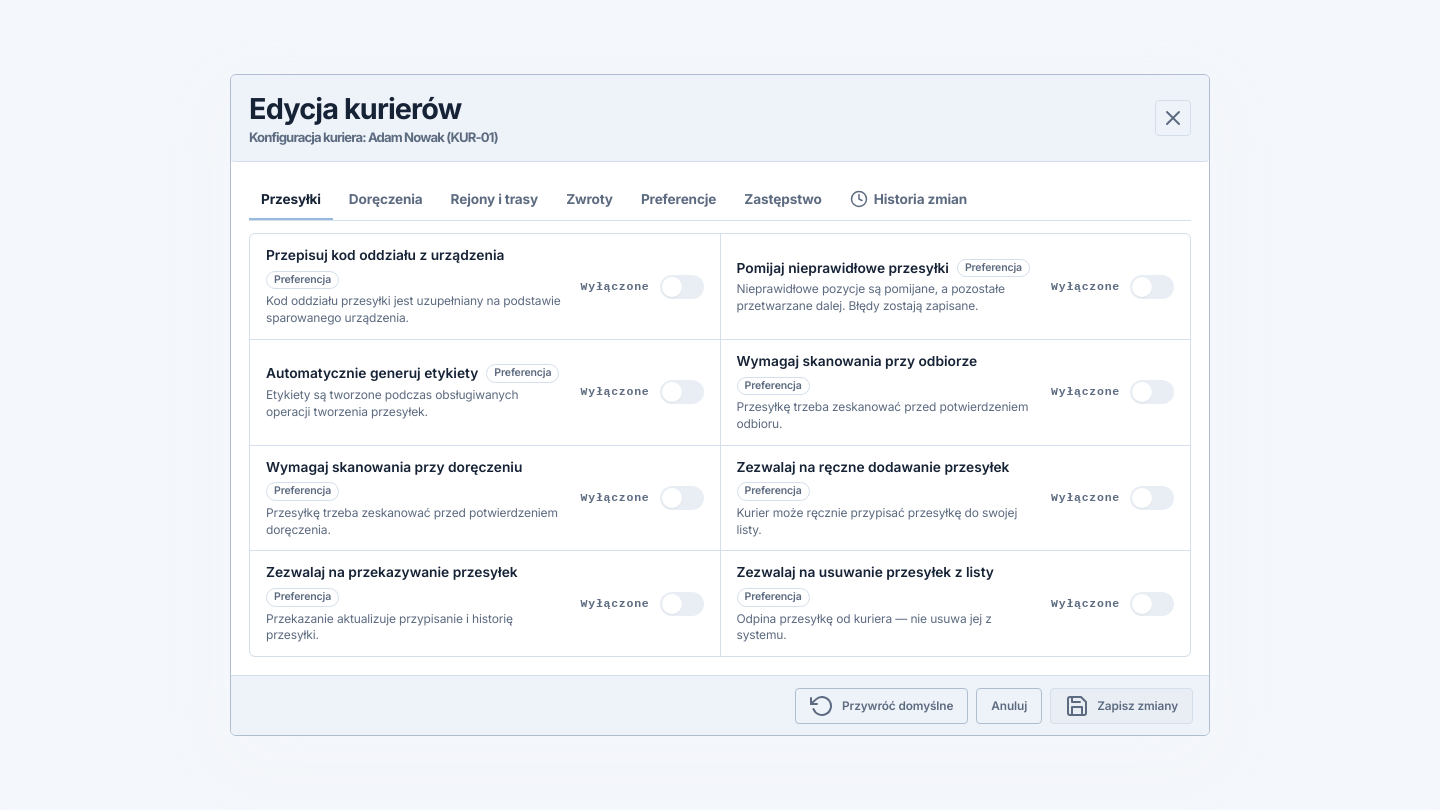
it: CourierConfigurationDialog › shows field validation errors returned by the backend
Click the checkbox named "Wymagaj skanowania przy odbiorze" at (1113, 392), box [1051,380,1174,404]
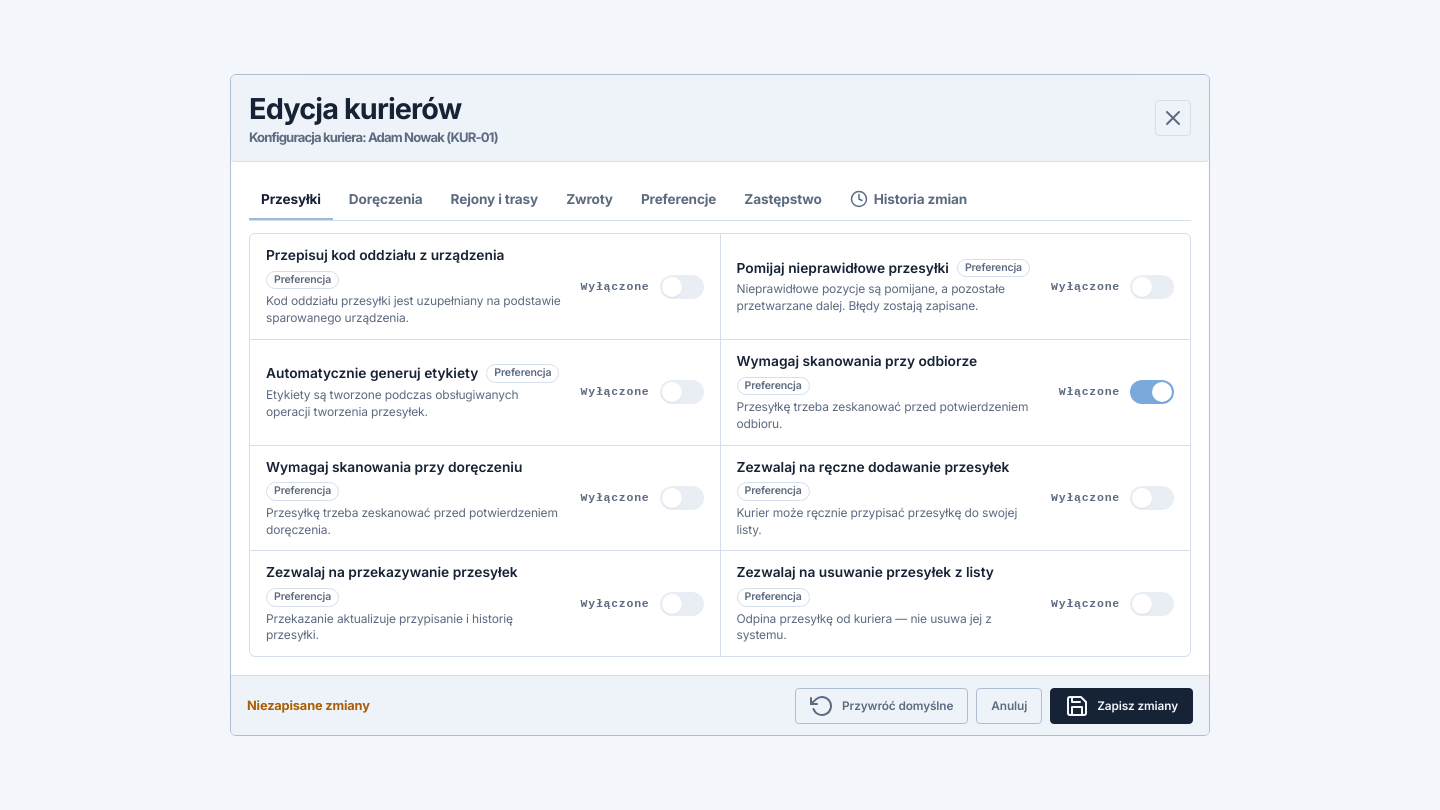
Click the button "Zapisz zmiany" at (1122, 706), box [1050,688,1193,724]
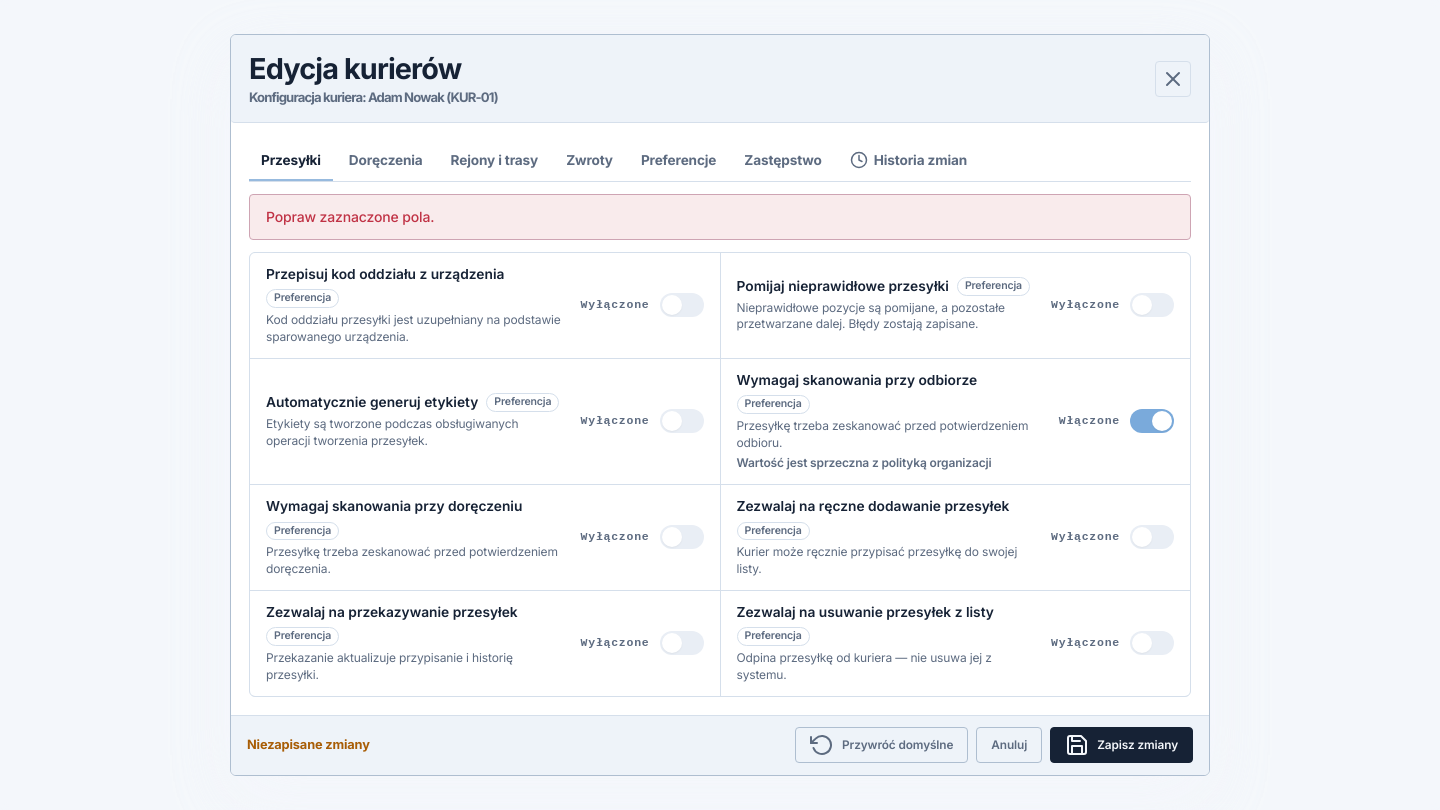
Now the text "Wartość jest sprzeczna z polityką organizacji" is shown, box [736,455,992,470]
